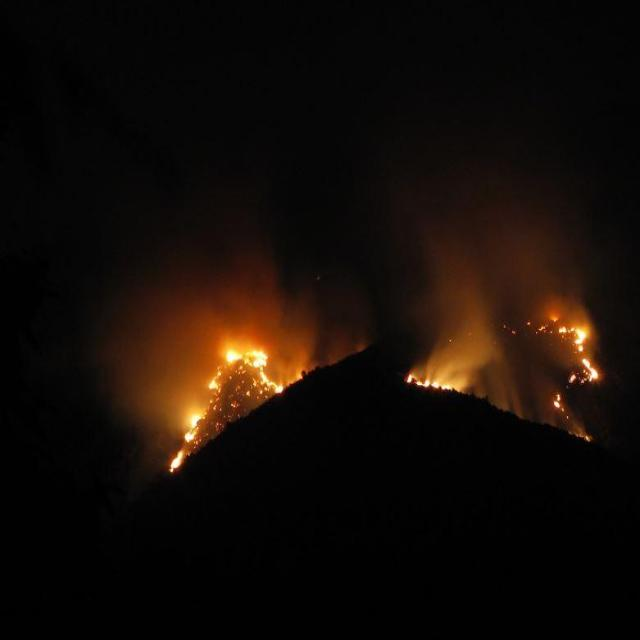Fire: (167, 340, 287, 470), (516, 289, 602, 433), (401, 364, 471, 404)
